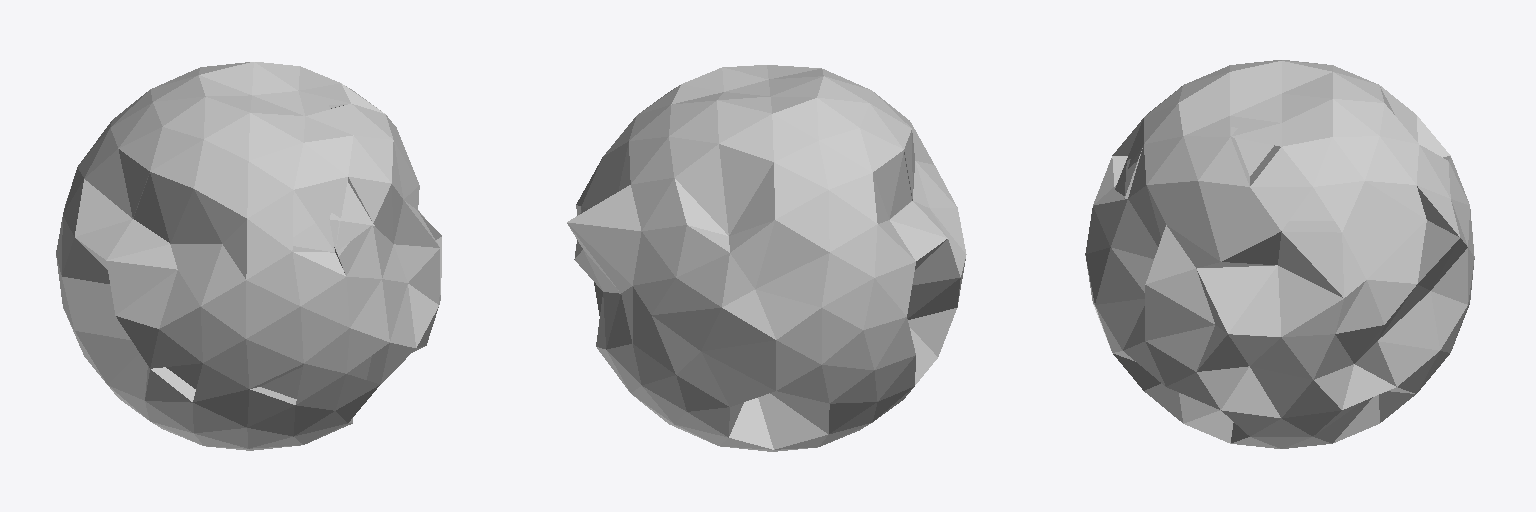
File: NewCraterTerrain.obj
The picture shows the model from 3 angles: view 1: azimuth 30°, elevation 25°; view 2: azimuth 150°, elevation 25°; view 3: azimuth 270°, elevation 25°; orthographic projection.
Visible parts, largest first — view 1: NewCraterTerrain; view 2: NewCraterTerrain; view 3: NewCraterTerrain.
Boxes of the visible parts, box(x1,y1,x2,y2) form: NewCraterTerrain: box(56, 62, 441, 450); NewCraterTerrain: box(567, 65, 966, 451); NewCraterTerrain: box(1085, 60, 1474, 448).
Bounding box in the file's own units: 0.981 × 0.9619 × 0.9922.